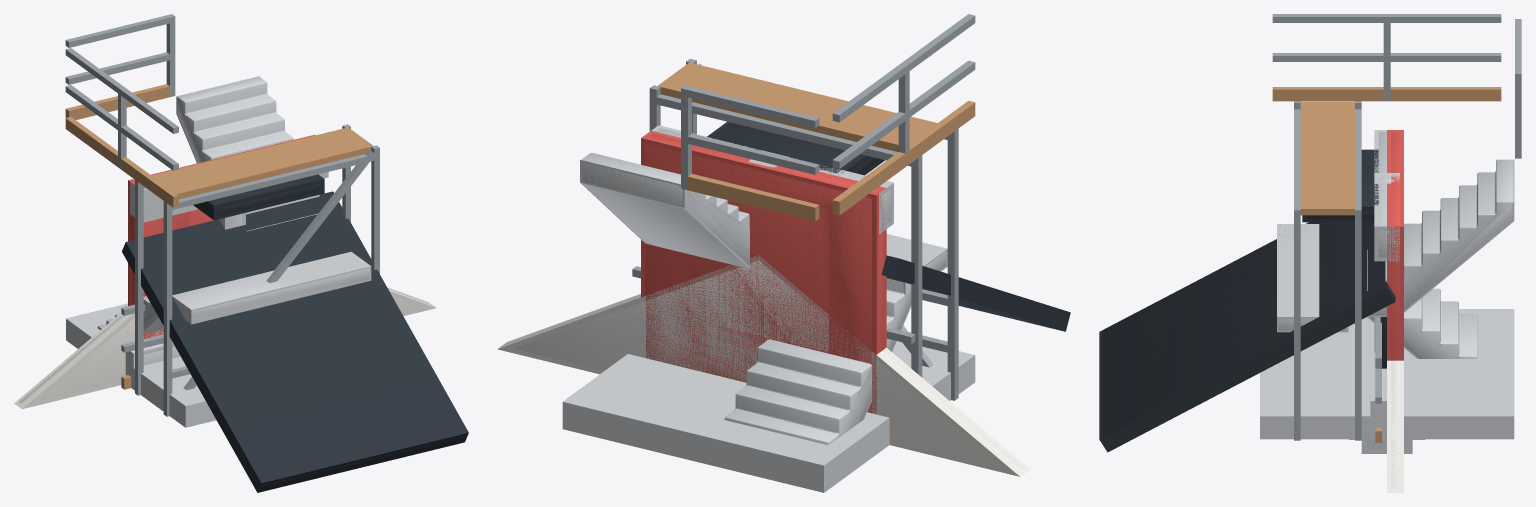
Rendered from BLD_KIT_A_v003.glb.
3 views of the same model, side by side, from view 1: azimuth 30°, elevation 25°; view 2: azimuth 150°, elevation 25°; view 3: azimuth 270°, elevation 25° (orthographic). The views are drawn at different scales.
Visible parts, largest first — view 1: BLD_KIT_A_ROOF_SLOPE, BLD_KIT_A_ROOF_SLOPE_LOW, BLD_KIT_A_STAIR, BLD_KIT_A_SCAFFOLD, BLD_KIT_A_STAIR_LOW, BLD_KIT_A_ROOF_GABLE_LOW, BLD_KIT_A_SLAB, BLD_KIT_A_ROOF_GABLE, BLD_KIT_A_CANOPY_LOW, BLD_KIT_A_CANOPY, BLD_KIT_A_WALL_BRICK, BLD_KIT_A_BEAM_LOW (+2 smaller); view 2: BLD_KIT_A_STAIR, BLD_KIT_A_ROOF_GABLE_LOW, BLD_KIT_A_WALL_BRICK, BLD_KIT_A_SLAB, BLD_KIT_A_SCAFFOLD, BLD_KIT_A_ROOF_GABLE, BLD_KIT_A_WALL_BRICK_WINDOW, BLD_KIT_A_STAIR_LOW, BLD_KIT_A_WALL_BRICK_DOOR_LOW, BLD_KIT_A_WALL_BRICK_DOOR, BLD_KIT_A_WALL_BRICK_LOW, BLD_KIT_A_ROOF_SLOPE (+5 smaller); view 3: BLD_KIT_A_ROOF_SLOPE, BLD_KIT_A_STAIR, BLD_KIT_A_SLAB, BLD_KIT_A_SCAFFOLD, BLD_KIT_A_STAIR_LOW, BLD_KIT_A_ROOF_SLOPE_LOW, BLD_KIT_A_WALL_BRICK_DOOR_LOW, BLD_KIT_A_ROOF_GABLE_LOW, BLD_KIT_A_WALL_BRICK, BLD_KIT_A_BEAM_LOW, BLD_KIT_A_BEAM, BLD_KIT_A_ROOF_GABLE (+7 smaller).
Boxes of the visible parts, <box> form: BLD_KIT_A_ROOF_SLOPE: <box>122,191,467,491</box>; BLD_KIT_A_ROOF_SLOPE_LOW: <box>122,192,468,492</box>; BLD_KIT_A_STAIR: <box>65,14,369,329</box>; BLD_KIT_A_SCAFFOLD: <box>135,124,379,416</box>; BLD_KIT_A_STAIR_LOW: <box>143,76,371,333</box>; BLD_KIT_A_ROOF_GABLE_LOW: <box>14,287,436,409</box>; BLD_KIT_A_SLAB: <box>66,303,216,427</box>; BLD_KIT_A_ROOF_GABLE: <box>19,288,431,404</box>; BLD_KIT_A_CANOPY_LOW: <box>193,174,324,220</box>; BLD_KIT_A_CANOPY: <box>197,180,321,215</box>; BLD_KIT_A_WALL_BRICK: <box>130,180,213,338</box>; BLD_KIT_A_BEAM_LOW: <box>130,172,328,222</box>; BLD_KIT_A_STAIR: <box>581,14,975,444</box>; BLD_KIT_A_ROOF_GABLE_LOW: <box>497,255,1030,476</box>; BLD_KIT_A_WALL_BRICK: <box>645,133,883,412</box>; BLD_KIT_A_SLAB: <box>562,341,975,492</box>; BLD_KIT_A_SCAFFOLD: <box>649,59,958,400</box>; BLD_KIT_A_ROOF_GABLE: <box>514,260,1023,471</box>; BLD_KIT_A_WALL_BRICK_WINDOW: <box>646,144,871,412</box>; BLD_KIT_A_STAIR_LOW: <box>580,160,947,436</box>; BLD_KIT_A_WALL_BRICK_DOOR_LOW: <box>641,130,886,413</box>; BLD_KIT_A_WALL_BRICK_DOOR: <box>645,144,871,412</box>; BLD_KIT_A_WALL_BRICK_LOW: <box>641,139,876,414</box>; BLD_KIT_A_ROOF_SLOPE: <box>881,255,1068,330</box>; BLD_KIT_A_ROOF_SLOPE: <box>1101,222,1395,450</box>; BLD_KIT_A_STAIR: <box>1272,14,1521,358</box>; BLD_KIT_A_SLAB: <box>1260,309,1514,439</box>; BLD_KIT_A_SCAFFOLD: <box>1294,101,1361,440</box>; BLD_KIT_A_STAIR_LOW: <box>1277,159,1514,358</box>; BLD_KIT_A_ROOF_SLOPE_LOW: <box>1099,222,1394,452</box>; BLD_KIT_A_WALL_BRICK_DOOR_LOW: <box>1387,130,1403,360</box>; BLD_KIT_A_ROOF_GABLE_LOW: <box>1387,360,1403,492</box>; BLD_KIT_A_WALL_BRICK: <box>1391,132,1399,360</box>; BLD_KIT_A_BEAM_LOW: <box>1374,130,1399,261</box>; BLD_KIT_A_BEAM: <box>1378,132,1395,257</box>; BLD_KIT_A_ROOF_GABLE: <box>1391,360,1399,489</box>.
Size of the model in its own units: 6 by 4.6 by 4.99.
